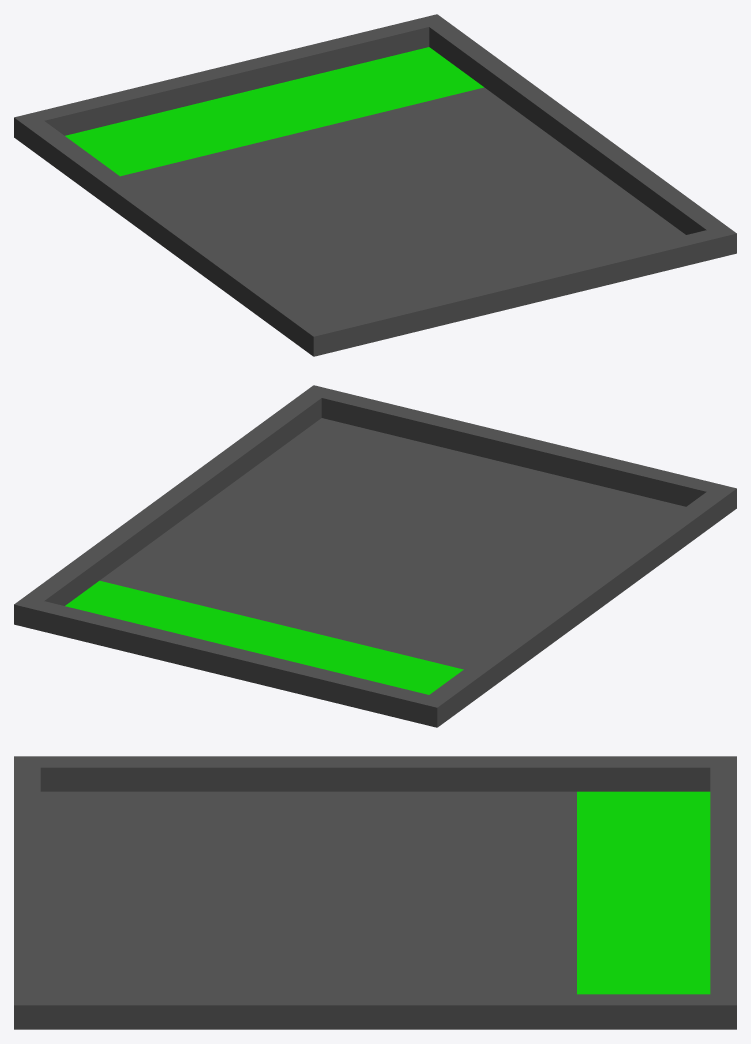
The model's file is Playground 1.fbx.
3 views of the same model, one above another, from view 1: azimuth 30°, elevation 25°; view 2: azimuth 150°, elevation 25°; view 3: azimuth 270°, elevation 25° (orthographic). The views are drawn at different scales.
Parts seen in each view (by area): view 1: Plane.001, Cube.003, Cube.002, Cube, Cube.001; view 2: Plane.001, Cube.002, Cube.003, Cube, Cube.001; view 3: Plane.001, Cube, Cube.001, Cube.002, Cube.003.
Boxes of the visible parts, x1,y1,x2,y2 form: Plane.001: (65, 47, 685, 323); Cube.003: (302, 225, 736, 356); Cube.002: (14, 14, 447, 144); Cube: (25, 121, 321, 348); Cube.001: (429, 22, 725, 234); Plane.001: (65, 418, 685, 694); Cube.002: (14, 596, 448, 727); Cube.003: (303, 385, 736, 515); Cube: (429, 492, 725, 719); Cube.001: (25, 393, 321, 605); Plane.001: (40, 791, 710, 994); Cube: (40, 756, 710, 791); Cube.001: (40, 994, 710, 1029); Cube.002: (710, 756, 736, 1029); Cube.003: (14, 756, 40, 1029).
Size of the model in its own units: 4420 by 200 by 5420.
